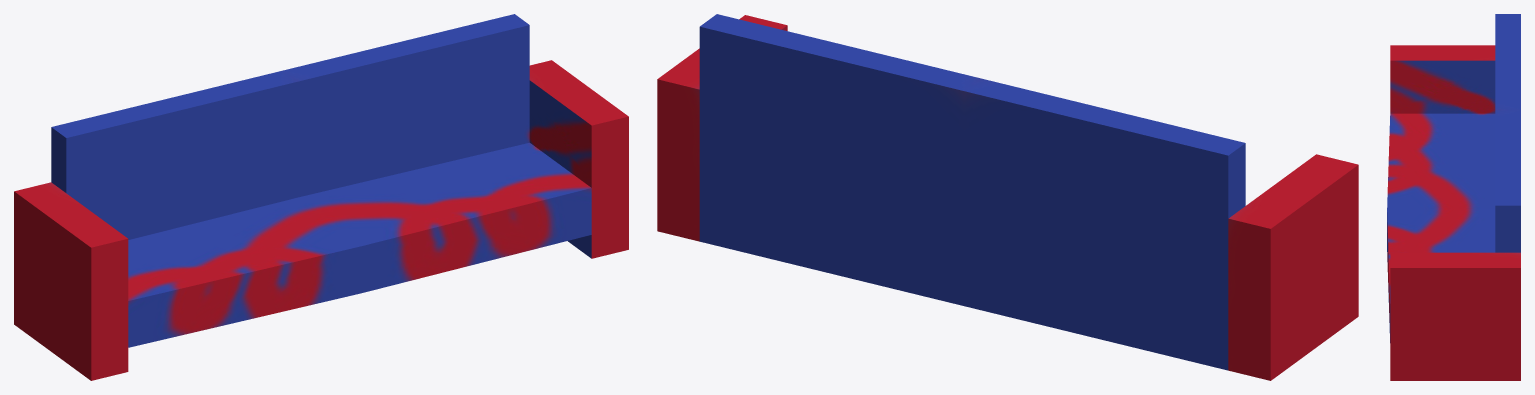
Rendered from KS_Sofa.fbx.
3 views of the same model, side by side, from view 1: azimuth 30°, elevation 25°; view 2: azimuth 150°, elevation 25°; view 3: azimuth 270°, elevation 25° (orthographic). The views are drawn at different scales.
Parts seen in each view (by area): view 1: KS_Sofa; view 2: KS_Sofa; view 3: KS_Sofa.
Part boxes in pixels (<box>): KS_Sofa: <box>14,14,628,380</box>; KS_Sofa: <box>657,14,1358,380</box>; KS_Sofa: <box>1387,14,1520,380</box>.
Bounding box in the file's own units: 400 × 134 × 102.
